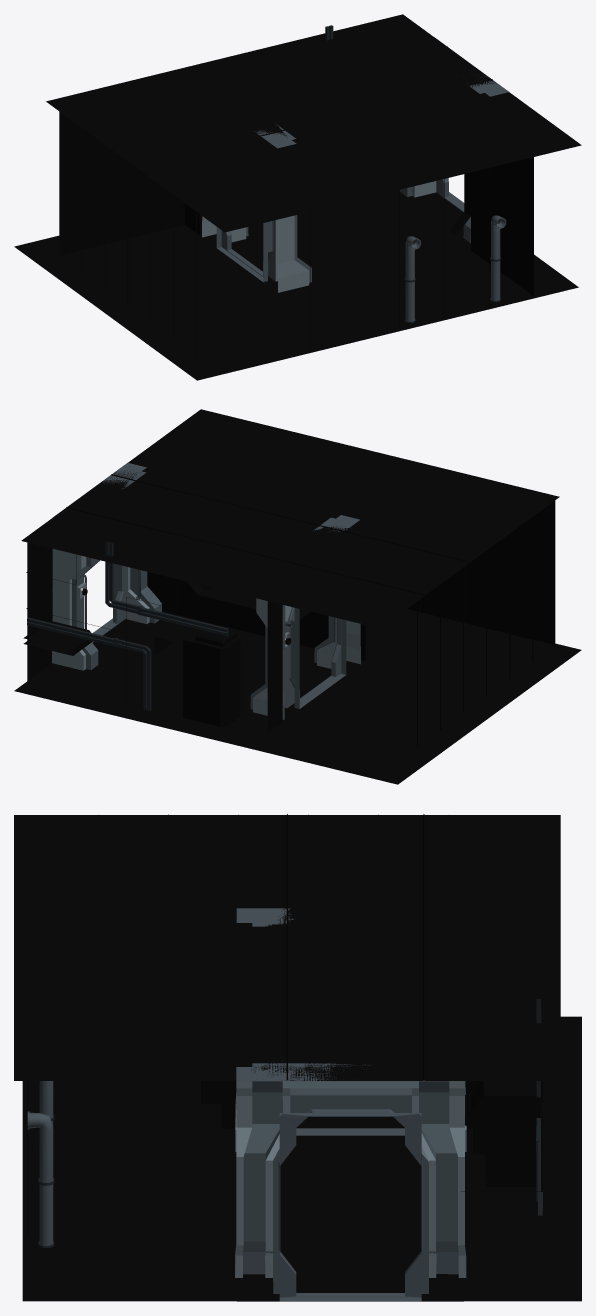
File: ROOMKEY_Colors.fbx
3 renders of one model, top to bottom at view 1: azimuth 30°, elevation 25°; view 2: azimuth 150°, elevation 25°; view 3: azimuth 270°, elevation 25°, orthographic. The views are drawn at different scales.
Visible parts, largest first — view 1: Plane.015, Plane.008, Plane.014, ROOMKEY_Colors, Plane.012, MainTonel.185, MainTonel.186; view 2: Plane.015, Plane.008, Plane.014, ROOMKEY_Colors, Cube.292, Plane.012, Plane.013, Cube.341; view 3: Plane.015, Plane.008, ROOMKEY_Colors, Cube.292, Plane.012, Cube.341, MainTonel.186, Plane.013.
Part boxes in pixels (x1=…): Plane.015: x1=46, y1=14, x2=581, y2=232; Plane.008: x1=14, y1=190, x2=578, y2=380; Plane.014: x1=59, y1=111, x2=533, y2=356; ROOMKEY_Colors: x1=202, y1=38, x2=508, y2=292; Plane.012: x1=347, y1=172, x2=470, y2=260; MainTonel.185: x1=404, y1=236, x2=421, y2=323; MainTonel.186: x1=490, y1=215, x2=506, y2=302; Plane.015: x1=21, y1=409, x2=559, y2=628; Plane.008: x1=14, y1=588, x2=581, y2=784; Plane.014: x1=200, y1=500, x2=555, y2=746; ROOMKEY_Colors: x1=52, y1=462, x2=360, y2=719; Cube.292: x1=154, y1=624, x2=240, y2=726; Plane.012: x1=147, y1=572, x2=365, y2=660; Plane.013: x1=26, y1=542, x2=284, y2=705; Cube.341: x1=23, y1=621, x2=92, y2=655; Plane.015: x1=14, y1=814, x2=560, y2=1080; Plane.008: x1=22, y1=1016, x2=581, y2=1301; ROOMKEY_Colors: x1=235, y1=908, x2=466, y2=1301; Cube.292: x1=465, y1=1081, x2=536, y2=1186; Plane.012: x1=201, y1=1081, x2=236, y2=1214; Cube.341: x1=468, y1=1201, x2=544, y2=1246; MainTonel.186: x1=27, y1=1111, x2=54, y2=1247; Plane.013: x1=461, y1=1081, x2=542, y2=1191.
Size of the model in its own units: 7.03 by 2.75 by 5.88.
